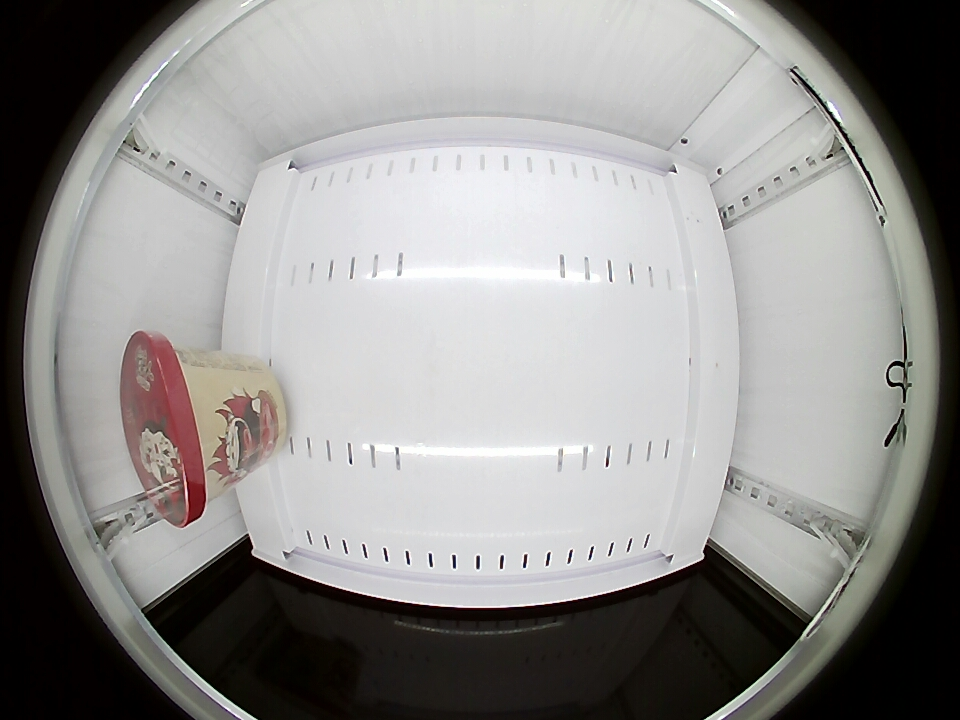suanlafen: (120, 331, 230, 527)
